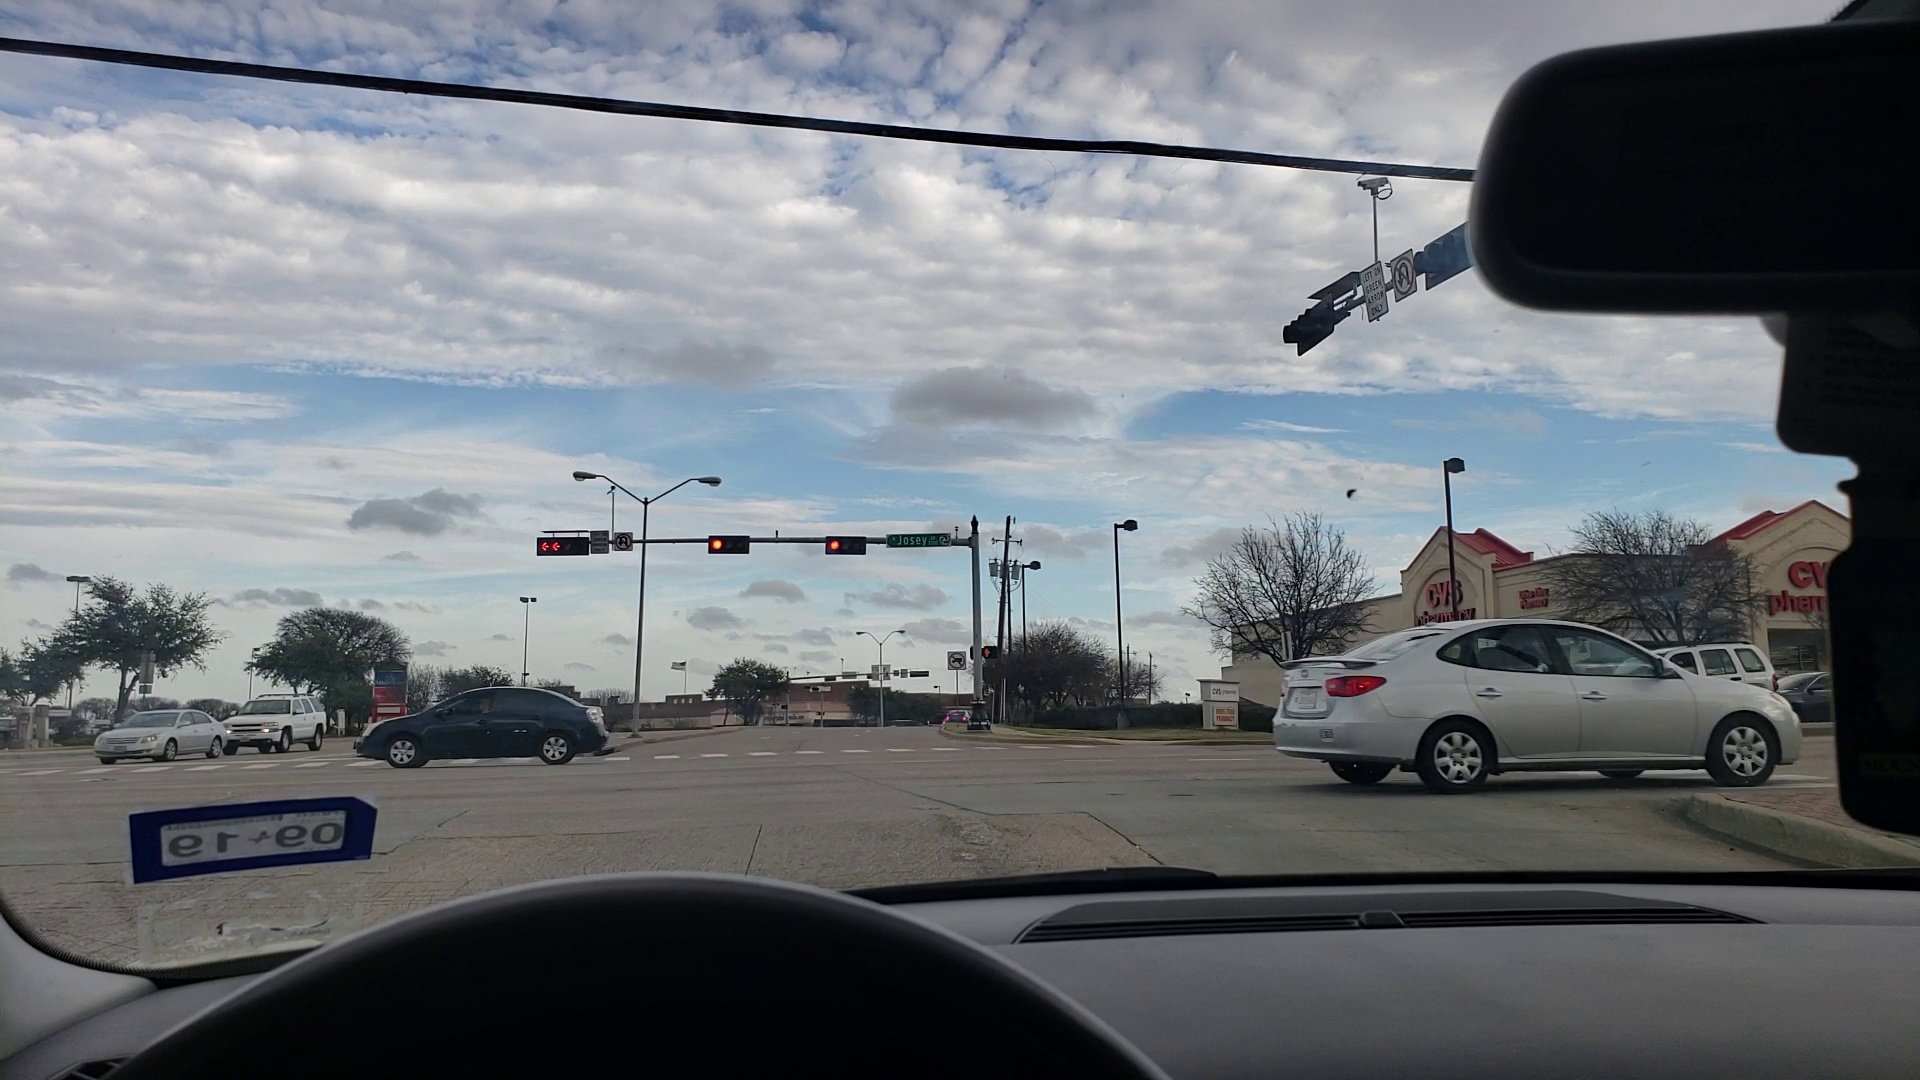car: (1273, 616, 1811, 793), (353, 680, 609, 774), (1646, 636, 1783, 696), (219, 684, 328, 760), (96, 711, 228, 762), (942, 698, 982, 727)
traffic light: (533, 538, 596, 558), (825, 535, 866, 555), (709, 538, 756, 553)
